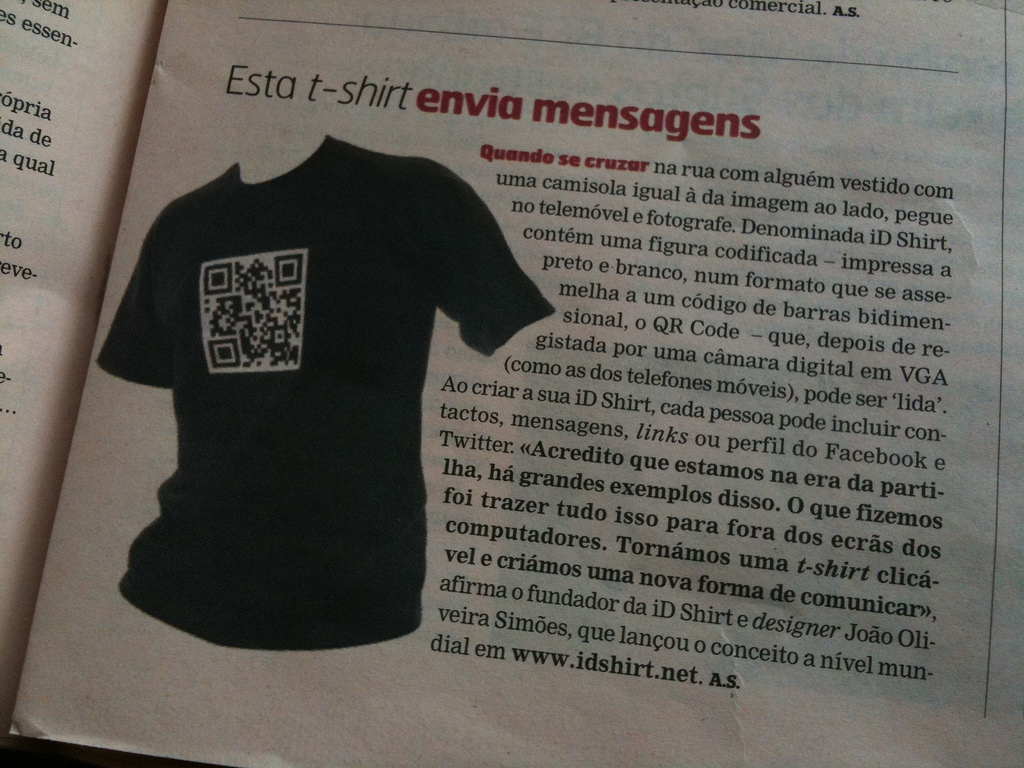QR-CODE: (204, 254, 302, 367)
